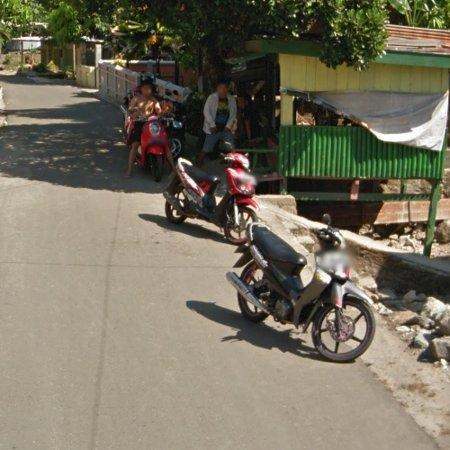motorcycles: (228, 217, 377, 364), (162, 143, 259, 244), (123, 106, 185, 180)
